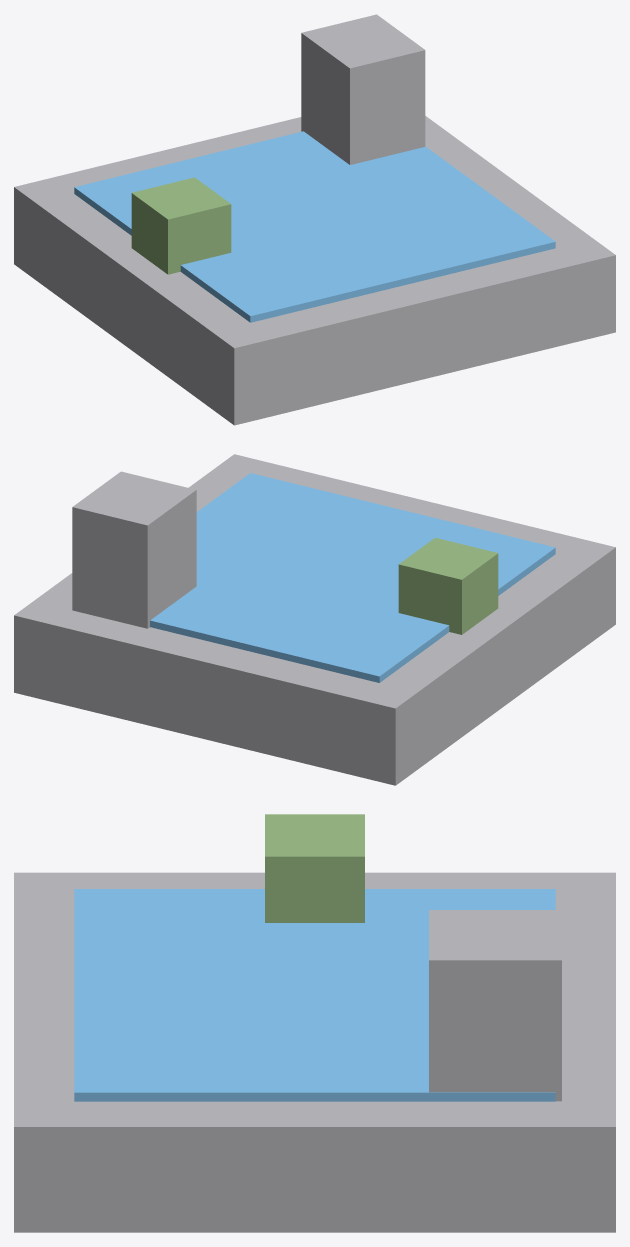
File: Prop_Water_AMF_SpringBasin_V6.glb
3 views of the same model, one above another, from view 1: azimuth 30°, elevation 25°; view 2: azimuth 150°, elevation 25°; view 3: azimuth 270°, elevation 25° (orthographic). The views are drawn at different scales.
Visible parts, largest first — view 1: Prop_Water_AMF_SpringBasin_V6; view 2: Prop_Water_AMF_SpringBasin_V6; view 3: Prop_Water_AMF_SpringBasin_V6.
Part boxes in pixels (x1=…): Prop_Water_AMF_SpringBasin_V6: x1=14, y1=14, x2=615, y2=425; Prop_Water_AMF_SpringBasin_V6: x1=14, y1=454, x2=615, y2=785; Prop_Water_AMF_SpringBasin_V6: x1=14, y1=814, x2=615, y2=1232.
Bounding box in the file's own units: 1.81 × 0.818 × 1.81.
